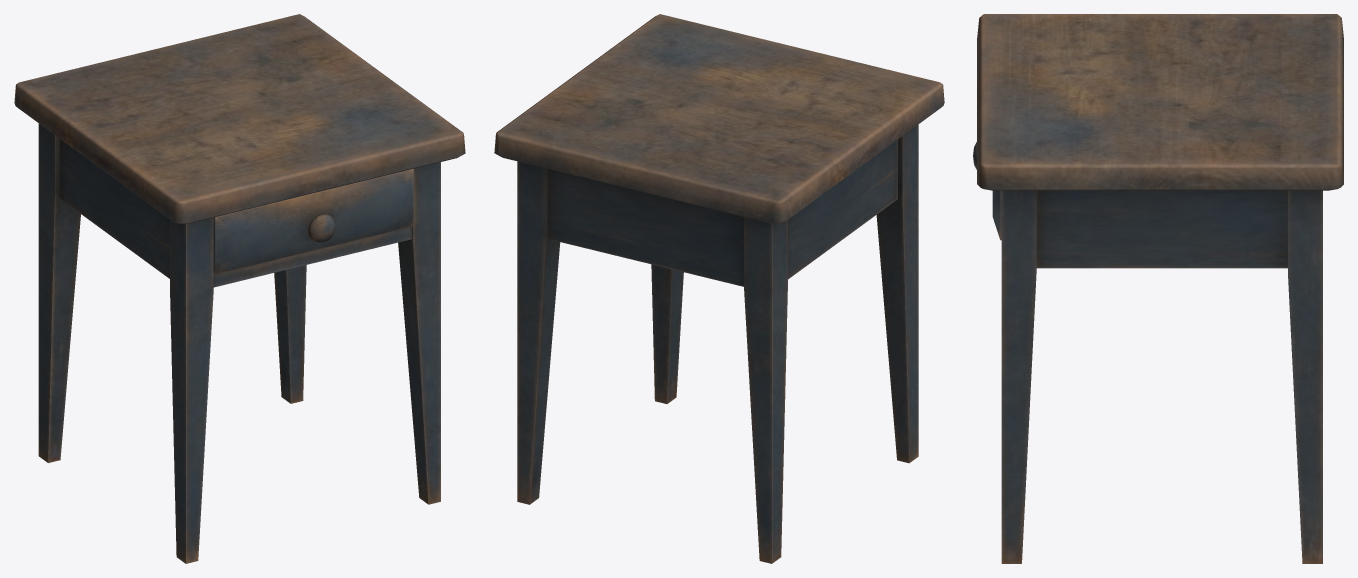
File: painted_wooden_nightstand.glb
The picture shows the model from 3 angles, left to right: view 1: azimuth 30°, elevation 25°; view 2: azimuth 150°, elevation 25°; view 3: azimuth 270°, elevation 25°; orthographic projection. The views are drawn at different scales.
Visible parts, largest first — view 1: painted_wooden_nightstand, painted_wooden_nightstand_drawer; view 2: painted_wooden_nightstand; view 3: painted_wooden_nightstand, painted_wooden_nightstand_drawer.
Boxes of the visible parts, left/top/right/bottom form: painted_wooden_nightstand: left=14, top=14, right=465, bottom=563; painted_wooden_nightstand_drawer: left=213, top=168, right=413, bottom=274; painted_wooden_nightstand: left=494, top=14, right=944, bottom=563; painted_wooden_nightstand: left=977, top=14, right=1343, bottom=563; painted_wooden_nightstand_drawer: left=973, top=142, right=1001, bottom=240.
Size of the model in its own units: 0.5046 by 0.6155 by 0.5087.
Materials: 1 (1 with a texture image).
